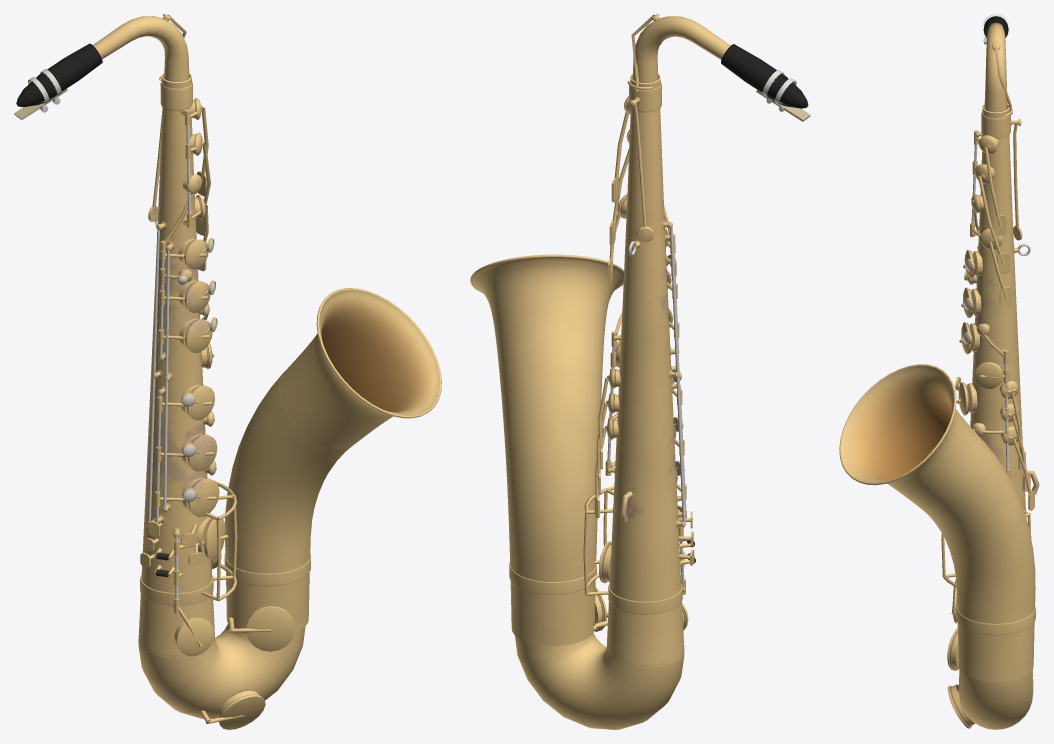
File: ska_sax.glb
3 views of the same model, side by side, from view 1: azimuth 30°, elevation 25°; view 2: azimuth 150°, elevation 25°; view 3: azimuth 270°, elevation 25° (orthographic). The views are drawn at different scales.
Parts seen in each view (by area): view 1: sx_body, sx_bell, sx_keys, sx_neck, sx_mpc; view 2: sx_body, sx_bell, sx_keys, sx_neck, sx_mpc; view 3: sx_bell, sx_body, sx_keys, sx_neck.
Boxes of the visible parts, x1,y1,x2,y2 form: sx_body: (138,81,310,723); sx_bell: (225,288,441,633); sx_keys: (140,98,294,729); sx_neck: (93,14,191,88); sx_mpc: (14,43,102,119); sx_body: (509,82,690,729); sx_bell: (470,254,623,645); sx_keys: (594,96,695,631); sx_neck: (627,14,730,91); sx_mpc: (721,44,810,121); sx_bell: (839,364,1035,681); sx_body: (941,111,1039,729); sx_keys: (947,124,1034,728); sx_neck: (982,22,1012,118).
Bounding box in the file's own units: 0.4247 × 0.787 × 0.2163.
Materials: 1 (1 with a texture image).
